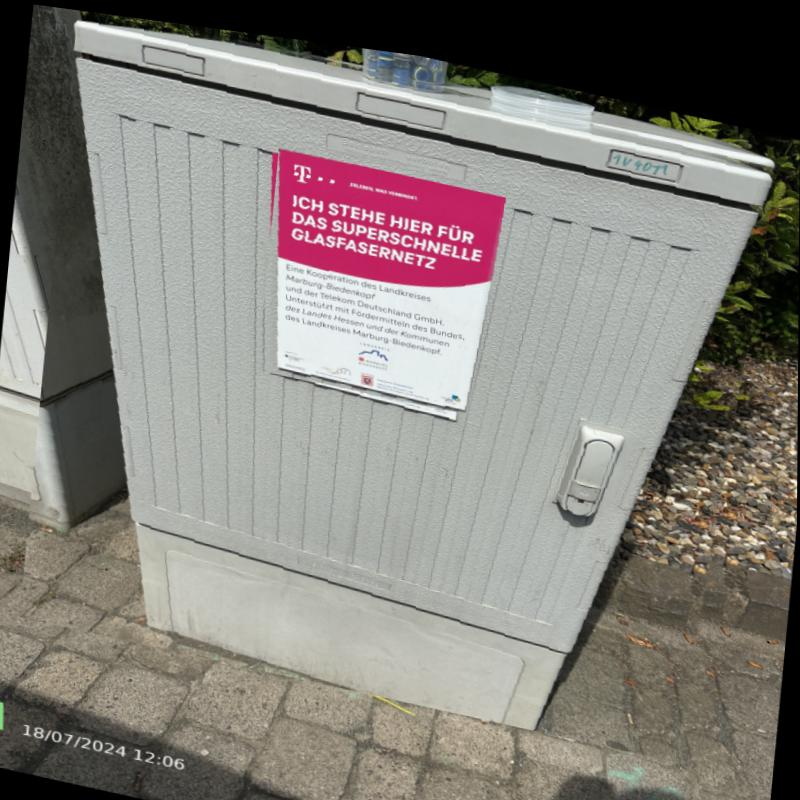NT-Gehause: (75, 27, 777, 717)
Steaker: (279, 144, 506, 403)
